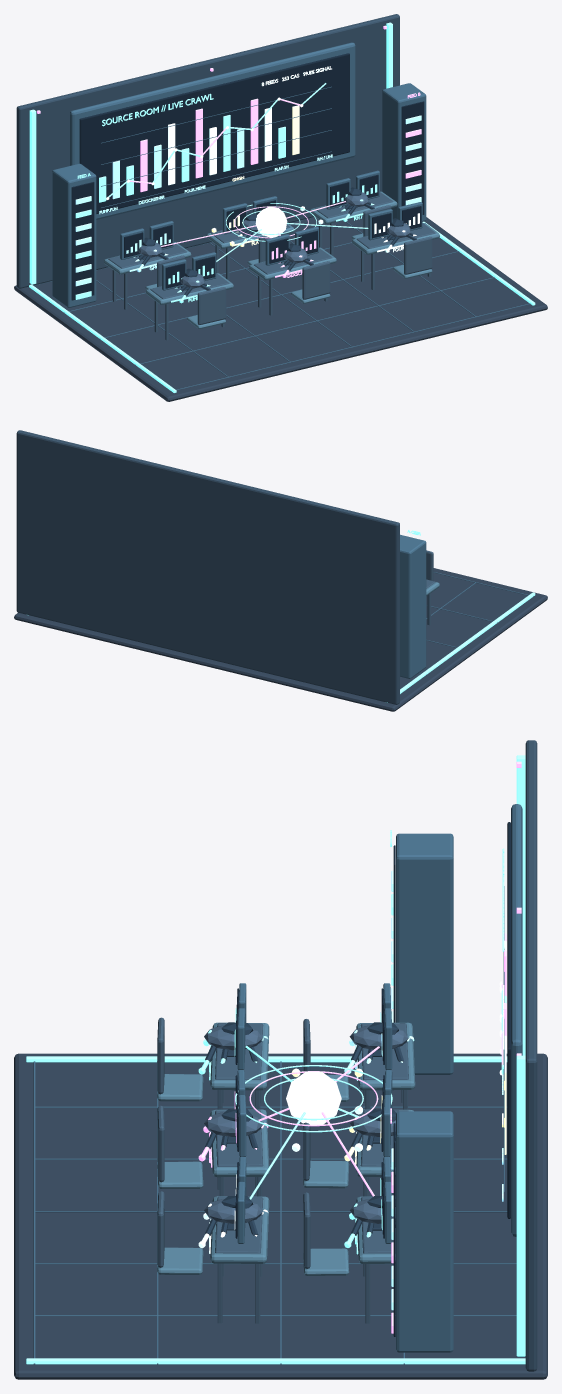
Rendered from mission-room.glb.
3 renders of one model, top to bottom at view 1: azimuth 30°, elevation 25°; view 2: azimuth 150°, elevation 25°; view 3: azimuth 270°, elevation 25°, orthographic. The views are drawn at different scales.
Visible parts, largest first — view 1: room floor, back wall, wall screen glass, wall screen frame, rack FEED A shell, rack FEED B shell, rack FEED A cavity, rack FEED B cavity, corner pillar, desk 1 chair back, desk 3 chair back, desk 2 chair back (+14 smaller); view 2: back wall, room floor, rack FEED A shell, floor side rail; view 3: room floor, rack FEED B shell, rack FEED A shell, back wall, wall screen frame, floor side rail.001, corner pillar.001, queen command node, floor side rail, wall screen glass, corner pillar, desk 3 inset (+18 smaller).
Part boxes in pixels (left/top/right/bottom): room floor: left=14, top=215, right=547, bottom=401; back wall: left=16, top=14, right=399, bottom=288; wall screen glass: left=79, top=53, right=349, bottom=213; wall screen frame: left=70, top=42, right=355, bottom=219; rack FEED A shell: left=52, top=163, right=96, bottom=307; rack FEED B shell: left=382, top=83, right=426, bottom=221; rack FEED A cavity: left=71, top=182, right=94, bottom=300; rack FEED B cavity: left=401, top=101, right=424, bottom=214; corner pillar: left=29, top=109, right=36, bottom=284; desk 1 chair back: left=197, top=287, right=226, bottom=324; desk 3 chair back: left=404, top=236, right=432, bottom=274; desk 2 chair back: left=302, top=261, right=330, bottom=299; back wall: left=16, top=430, right=399, bottom=704; room floor: left=14, top=568, right=547, bottom=711; rack FEED A shell: left=400, top=534, right=426, bottom=678; floor side rail: left=387, top=592, right=535, bottom=702; room floor: left=14, top=1053, right=547, bottom=1379; rack FEED B shell: left=396, top=1111, right=453, bottom=1352; rack FEED A shell: left=396, top=833, right=453, bottom=1074; back wall: left=525, top=740, right=537, bottom=1371; wall screen frame: left=511, top=804, right=522, bottom=1236; floor side rail.001: left=26, top=1358, right=525, bottom=1364; corner pillar.001: left=516, top=1055, right=525, bottom=1356; queen command node: left=286, top=1072, right=341, bottom=1124; floor side rail: left=26, top=1056, right=507, bottom=1062; wall screen glass: left=507, top=822, right=510, bottom=1218; corner pillar: left=516, top=755, right=525, bottom=1055; desk 3 inset: left=215, top=1196, right=263, bottom=1253.
Bounding box in the file's own units: 18.5 × 8.64 × 13.
